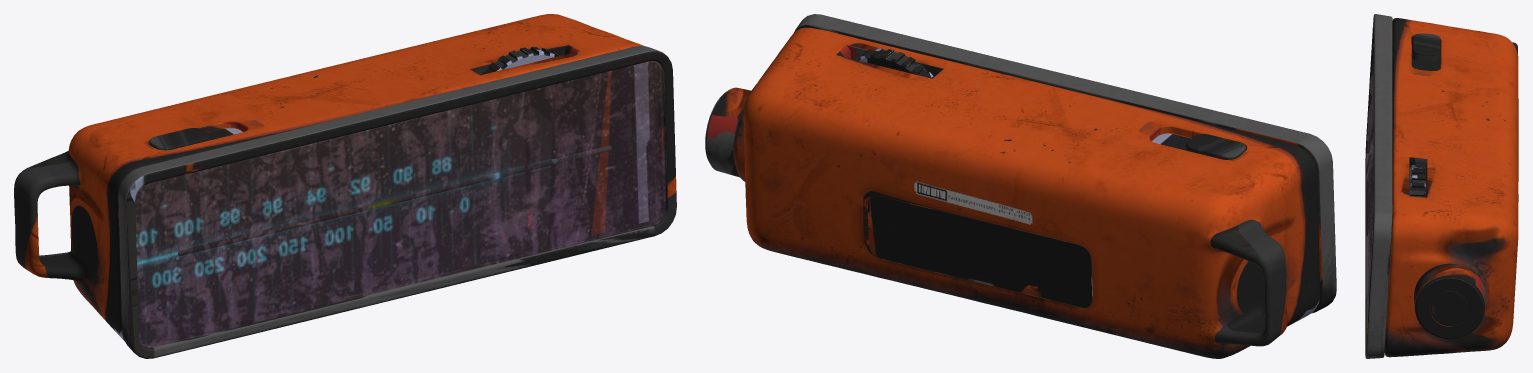
The picture shows the model from 3 angles, left to right: view 1: azimuth 30°, elevation 25°; view 2: azimuth 150°, elevation 25°; view 3: azimuth 270°, elevation 25°; orthographic projection. The views are drawn at different scales.
Visible parts, largest first — view 1: radio, Glass; view 2: radio; view 3: radio, Glass.
Boxes of the visible parts, left/top/right/bottom form: radio: left=14, top=14, right=676, bottom=358; Glass: left=135, top=61, right=666, bottom=347; radio: left=705, top=14, right=1336, bottom=358; radio: left=1365, top=14, right=1518, bottom=358; Glass: left=1367, top=53, right=1373, bottom=321.
Size of the model in its own units: 0.34 by 0.1011 by 0.0938.
Materials: 2 (2 with a texture image).
